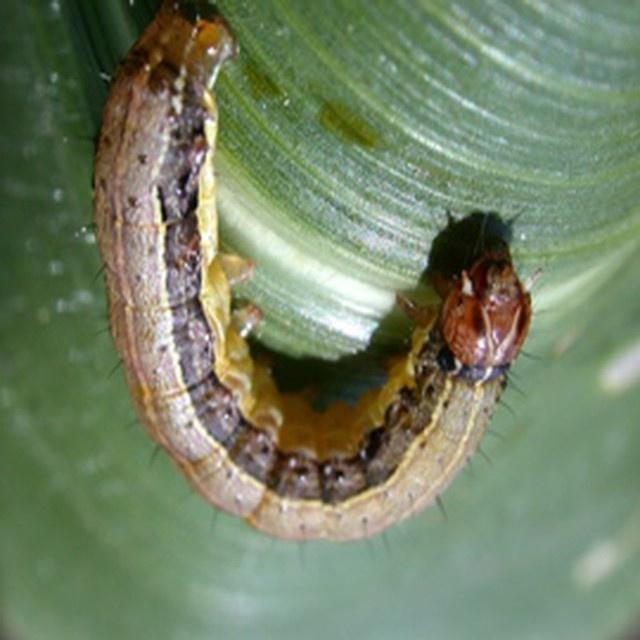gusano_cogollero: (103, 2, 535, 535)
